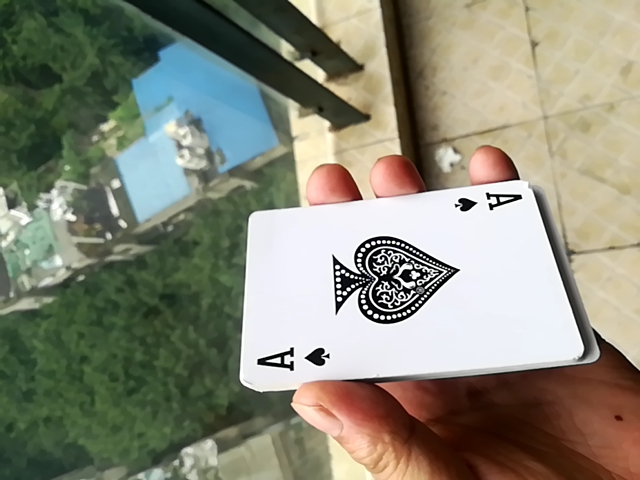ht a: (231, 183, 585, 394)
